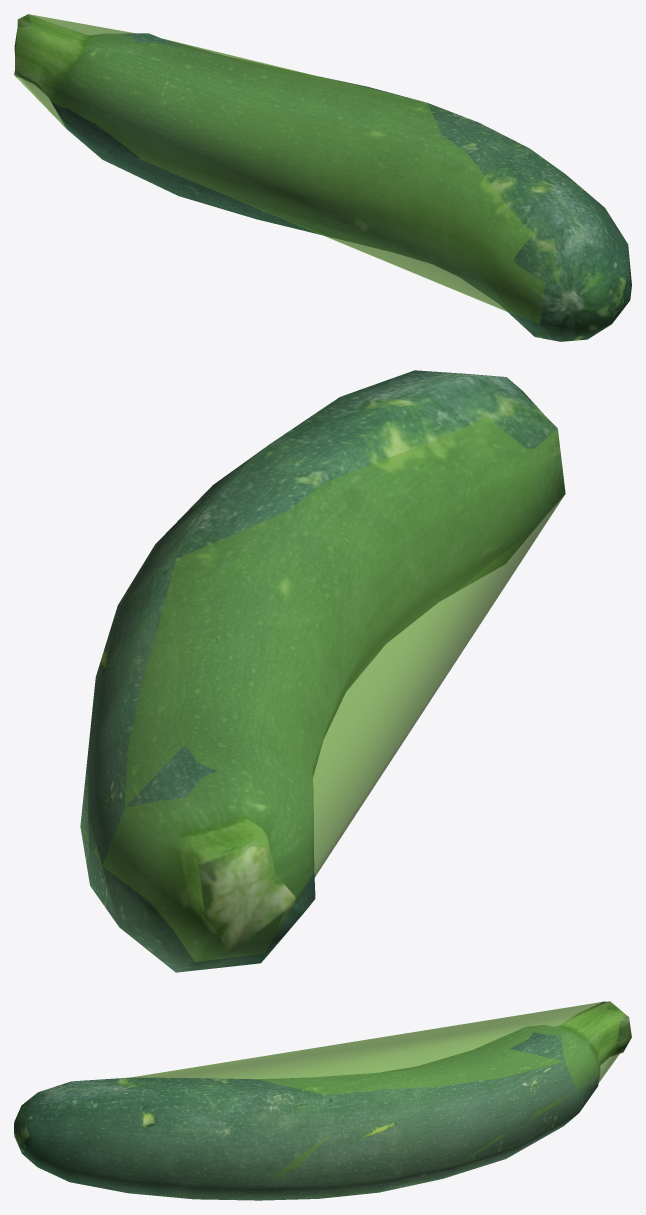
Rendered from pg_Zucchini_03.fbx.
The picture shows the model from 3 angles, top to bottom: view 1: azimuth 30°, elevation 25°; view 2: azimuth 150°, elevation 25°; view 3: azimuth 270°, elevation 25°; orthographic projection. The views are drawn at different scales.
Visible parts, largest first — view 1: pg_Zucchini_03_a_LOD0, pg_Zucchini_03_a_col; view 2: pg_Zucchini_03_a_LOD0, pg_Zucchini_03_a_col; view 3: pg_Zucchini_03_a_LOD0, pg_Zucchini_03_a_col.
Boxes of the visible parts, bbox=[...] form: pg_Zucchini_03_a_LOD0: bbox=[14, 14, 631, 341]; pg_Zucchini_03_a_col: bbox=[15, 14, 545, 323]; pg_Zucchini_03_a_LOD0: bbox=[80, 370, 565, 972]; pg_Zucchini_03_a_col: bbox=[81, 416, 565, 961]; pg_Zucchini_03_a_LOD0: bbox=[14, 1001, 631, 1200]; pg_Zucchini_03_a_col: bbox=[130, 1002, 623, 1183].
Size of what is drawn, in the model's own units: 9.05 by 4.16 by 19.87.
Materials: 2 (1 with a texture image).
